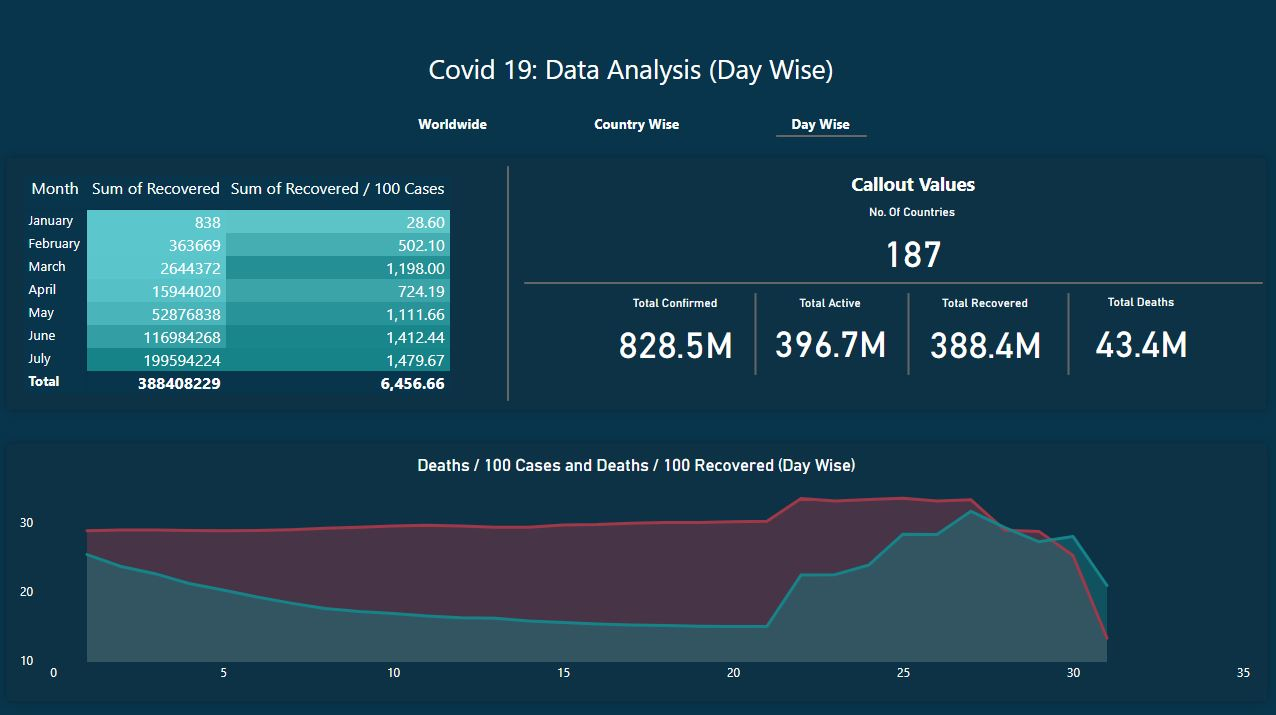

The dashboard page shown, as its layout file describes it:
{"tool":"powerbi","page":{"name":"Day Wise","canvas":[1280,720],"ordinal":2},"visuals":[{"type":"textbox","box":[426.7,46.5,425.9,54.4],"z":0},{"type":"pageNavigator","box":[368.8,101,542.6,49.2],"z":1000},{"type":"shape","box":[778.8,125.6,91.3,24.6],"z":2000},{"type":"shape","box":[0,150.1,1279.3,270.4],"z":3000},{"type":"card","title":"Total Recovered","fields":{"Values":["Sum(day_wise.Recovered)"]},"box":[911.4,297.7,154.5,79],"z":4000},{"type":"card","title":"Total Active","fields":{"Values":["Sum(day_wise.Active)"]},"box":[756,297.7,155.4,77.3],"z":5000},{"type":"card","title":"Total Deaths","fields":{"Values":["Sum(day_wise.Deaths)"]},"box":[1066,296.8,157.2,78.1],"z":6000},{"type":"card","title":"Total Confirmed","fields":{"Values":["Sum(day_wise.Confirmed)"]},"box":[601.5,297.7,154.5,78.1],"z":7000},{"type":"card","title":"No. Of Countries","fields":{"Values":["Max(day_wise.No. of countries)"]},"box":[759.5,207.2,311.7,78.1],"z":8000},{"type":"textbox","box":[788.5,167.7,256.4,41.3],"z":9000},{"type":"shape","box":[749,295,19.3,81.7],"z":10000},{"type":"shape","box":[526.8,272.2,739.3,25.5],"z":11000},{"type":"pivotTable","fields":{"Rows":["day_wise.Date.Variation.Date Hierarchy.Year","day_wise.Date.Variation.Date Hierarchy.Quarter","day_wise.Date.Variation.Date Hierarchy.Month","day_wise.Date.Variation.Date Hierarchy.Day","country_wise_latest.Country/Region"],"Values":["Sum(day_wise.Recovered)","Sum(day_wise.Recovered / 100 Cases)"]},"box":[22,173,456.6,247.6],"z":12000},{"type":"shape","box":[501.4,167.7,19.3,235.3],"z":13000},{"type":"shape","box":[901.8,295,19.3,81.7],"z":14000},{"type":"shape","box":[1061.6,295,19.3,81.7],"z":15000},{"type":"shape","box":[0,436.4,1280.2,276.6],"z":15001},{"type":"areaChart","title":"Deaths / 100 Cases and Deaths / 100 Recovered (Day Wise)","fields":{"Category":["day_wise.Date.Variation.Date Hierarchy.Year","day_wise.Date.Variation.Date Hierarchy.Quarter","day_wise.Date.Variation.Date Hierarchy.Month","day_wise.Date.Variation.Date Hierarchy.Day"],"Y":["Sum(day_wise.Deaths / 100 Cases)"],"Y2":["Sum(day_wise.Deaths / 100 Recovered)"]},"box":[18.4,456.6,1242.4,236.2],"z":15002}]}

Visuals, with their boxes in screenshot pixels (x1, y1, x2, y2), scaled from the page's 1280x720 canvas onto the 1276x715 screenshot:
textbox: BBox(425, 46, 850, 100)
pageNavigator: BBox(368, 100, 909, 149)
shape: BBox(776, 125, 867, 149)
shape: BBox(0, 149, 1275, 418)
"Total Recovered" card: BBox(909, 296, 1063, 374)
"Total Active" card: BBox(754, 296, 909, 372)
"Total Deaths" card: BBox(1063, 295, 1219, 372)
"Total Confirmed" card: BBox(600, 296, 754, 373)
"No. Of Countries" card: BBox(757, 206, 1068, 283)
textbox: BBox(786, 167, 1042, 208)
shape: BBox(747, 293, 766, 374)
shape: BBox(525, 270, 1262, 296)
pivotTable - day_wise.Date.Variation.Date Hierarchy.Year x day_wise.Date.Variation.Date Hierarchy.Quarter: BBox(22, 172, 477, 418)
shape: BBox(500, 167, 519, 400)
shape: BBox(899, 293, 918, 374)
shape: BBox(1058, 293, 1078, 374)
shape: BBox(0, 433, 1275, 708)
"Deaths / 100 Cases and Deaths / 100 Recovered (Day Wise)" areaChart: BBox(18, 453, 1257, 688)
